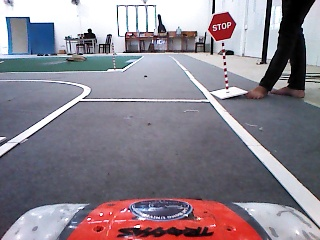stop: (205, 10, 238, 43)
